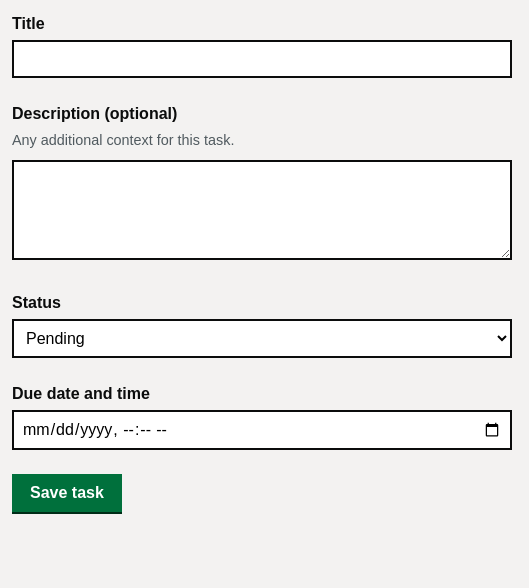
Test: TaskForm › shows validation error when title is missing
Click the button "Save task".
click(67, 493)  # box [12,474,122,512]
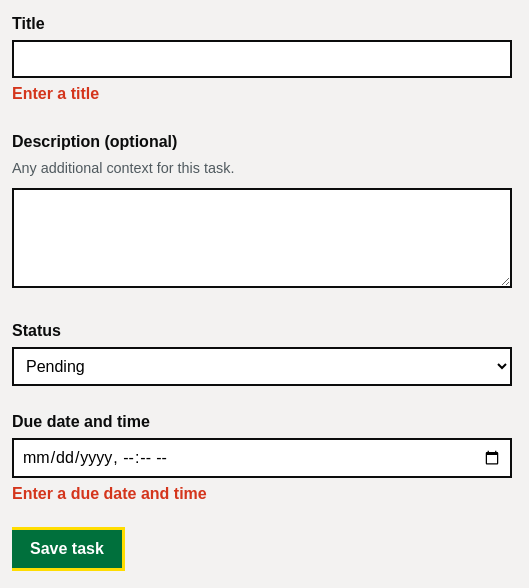
Expected: the text "Enter a title" is shown, [12,85,99,102]
